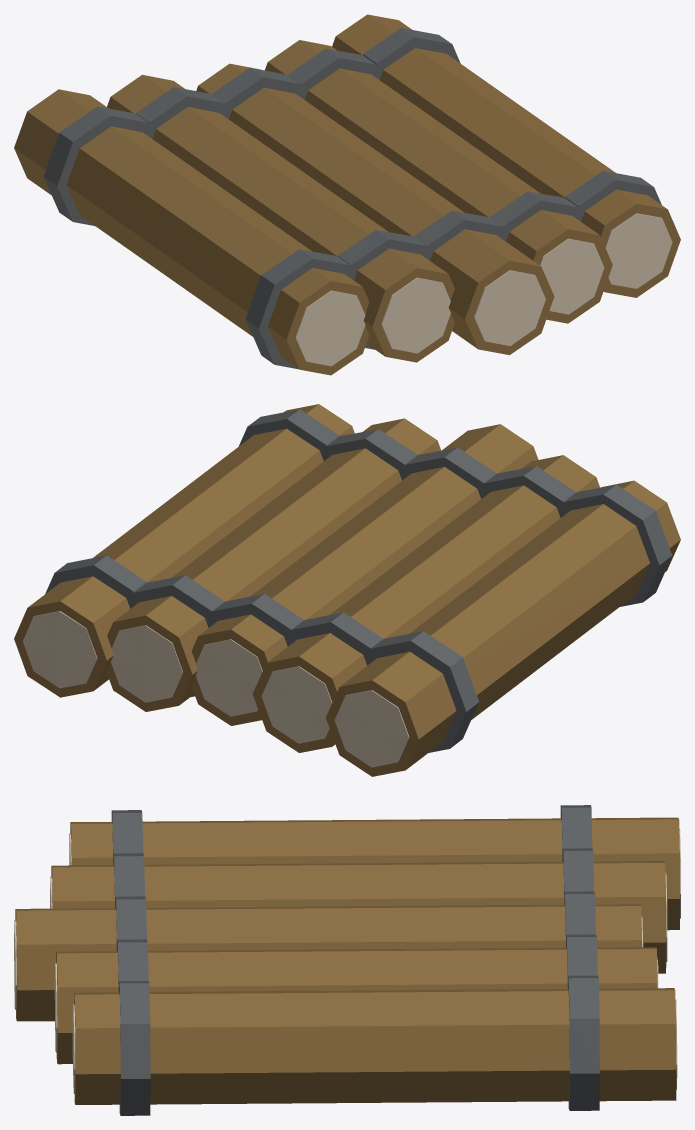
3 renders of one model, top to bottom at view 1: azimuth 30°, elevation 25°; view 2: azimuth 150°, elevation 25°; view 3: azimuth 270°, elevation 25°, orthographic. The views are drawn at different scales.
Parts seen in each view (by area): view 1: Mesh_Mesh_head_geo.001_lambert2SG.001; view 2: Mesh_Mesh_head_geo.001_lambert2SG.001; view 3: Mesh_Mesh_head_geo.001_lambert2SG.001.
Boxes of the visible parts, box(x1,y1,x2,y2) form: Mesh_Mesh_head_geo.001_lambert2SG.001: box(14, 14, 680, 375); Mesh_Mesh_head_geo.001_lambert2SG.001: box(14, 404, 680, 776); Mesh_Mesh_head_geo.001_lambert2SG.001: box(14, 805, 680, 1115).
Bounding box in the file's own units: 1.54 × 0.405 × 1.83.
